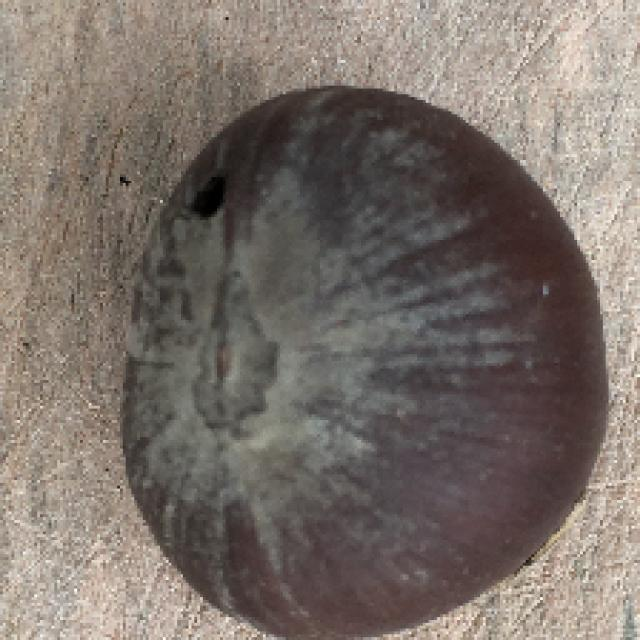damagedHazelnut: (121, 84, 614, 634)
